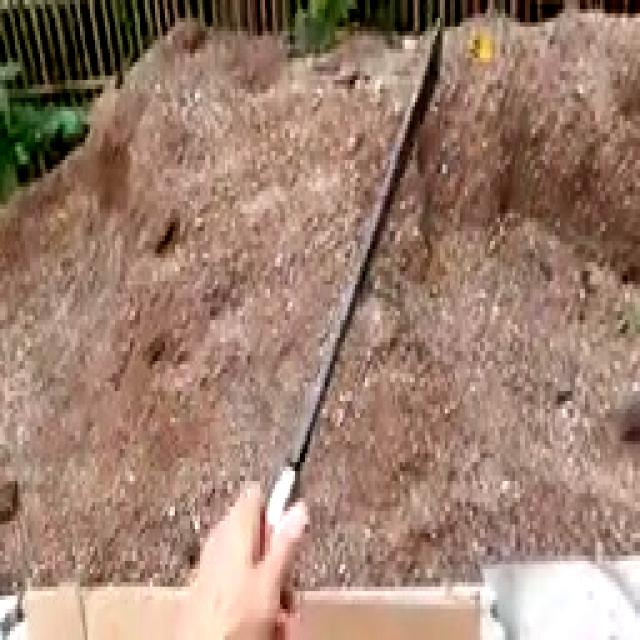eto: (217, 14, 442, 630)
